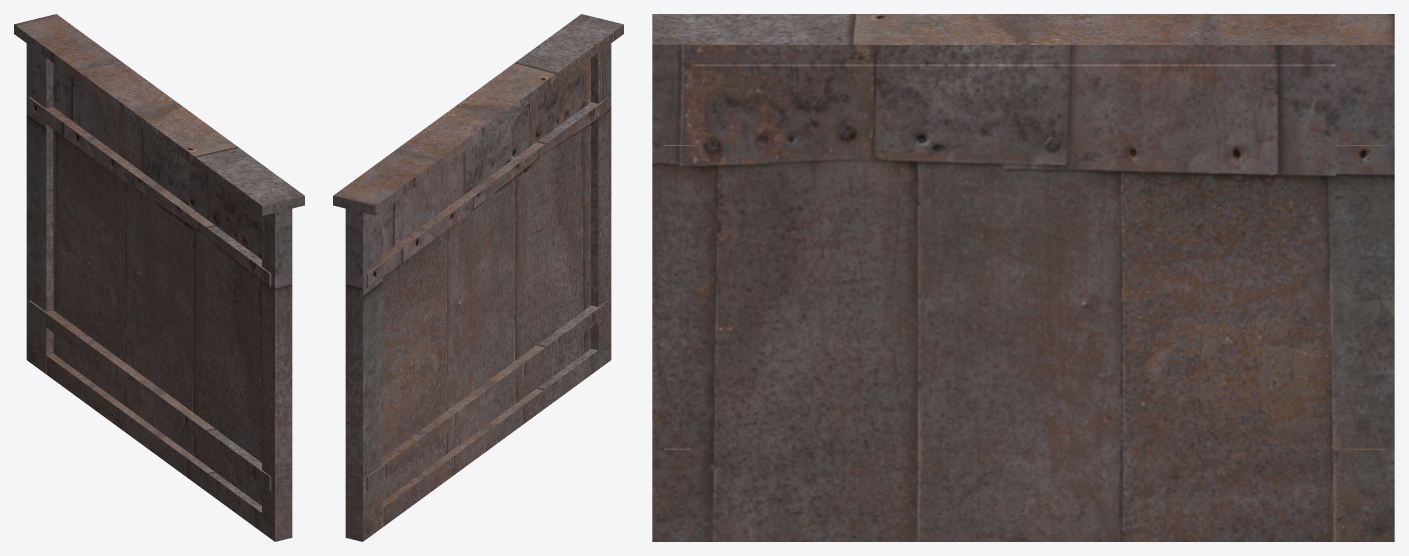
File: SM_LDFest_24_01.fbx
The picture shows the model from 3 angles, left to right: view 1: azimuth 30°, elevation 25°; view 2: azimuth 150°, elevation 25°; view 3: azimuth 270°, elevation 25°; orthographic projection. The views are drawn at different scales.
Parts seen in each view (by area): view 1: SM_LDFest_24_01; view 2: SM_LDFest_24_01; view 3: SM_LDFest_24_01.
Part boxes in pixels (<box>): SM_LDFest_24_01: <box>14,14,304,541</box>; SM_LDFest_24_01: <box>333,14,623,541</box>; SM_LDFest_24_01: <box>652,14,1394,541</box>.
Size of the model in its own units: 78.58 by 598 by 795.
